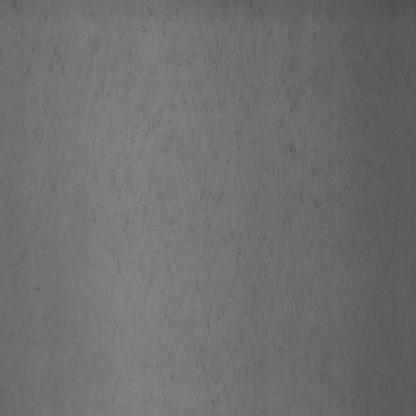silk_spot: (117, 5, 330, 280)
